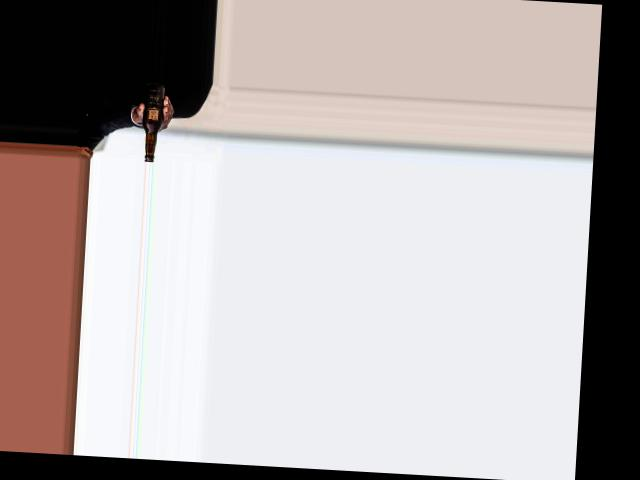beer: (141, 82, 165, 162)
